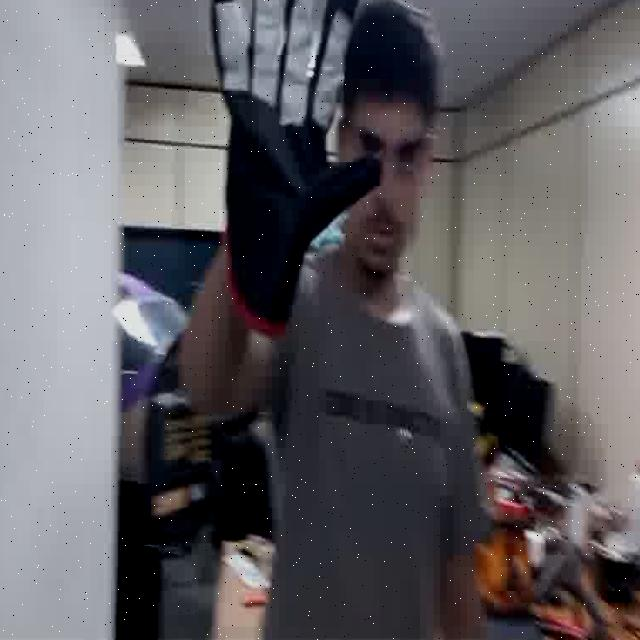Gloves: (208, 0, 382, 304)
